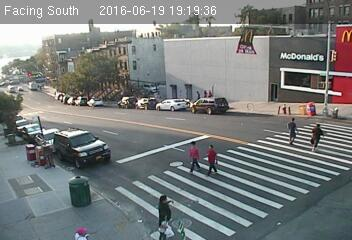neg: (153, 80, 171, 105), (168, 90, 184, 110), (121, 58, 131, 72), (132, 88, 142, 100), (121, 88, 129, 100), (89, 88, 97, 100), (141, 86, 149, 97), (130, 59, 137, 68), (109, 92, 115, 100), (99, 92, 105, 100), (106, 79, 112, 87), (148, 30, 154, 38)
pos: (148, 188, 180, 230), (178, 139, 204, 174), (199, 143, 225, 178), (280, 113, 306, 148), (304, 121, 325, 148), (193, 89, 201, 100)
